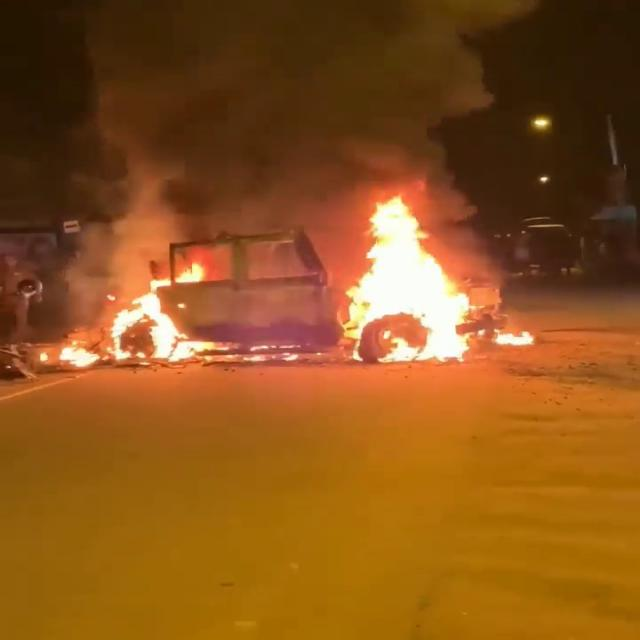Fire: (347, 198, 494, 359), (108, 291, 202, 356), (41, 347, 112, 371), (494, 331, 539, 351), (174, 270, 220, 286)
Smoke: (56, 161, 209, 326)
